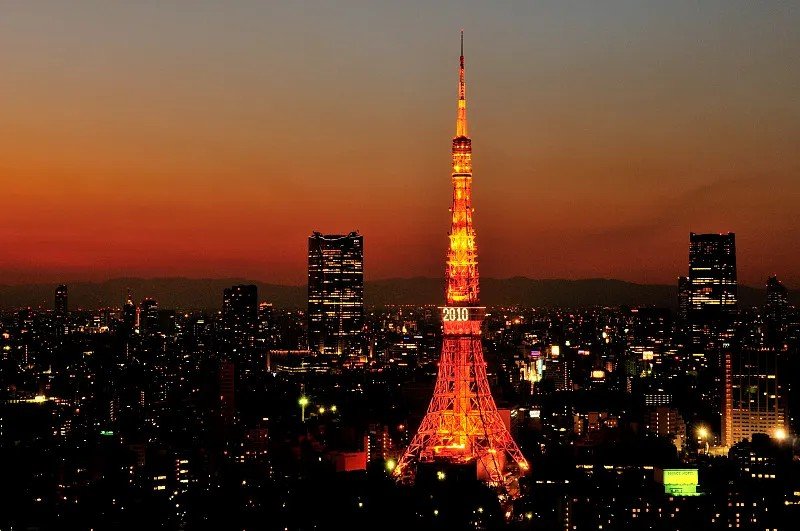Tokyo: (393, 22, 529, 502)
